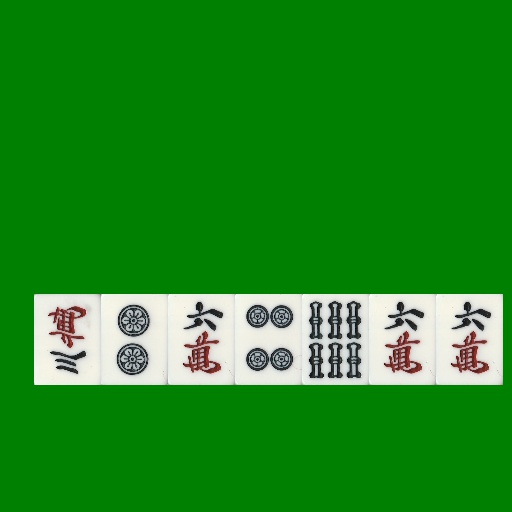2p: (101, 294, 168, 385)
3m: (34, 294, 101, 385)
4p: (235, 294, 302, 385)
6m: (168, 294, 235, 385), (369, 294, 436, 385), (436, 294, 503, 385)
6s: (302, 294, 369, 385)
